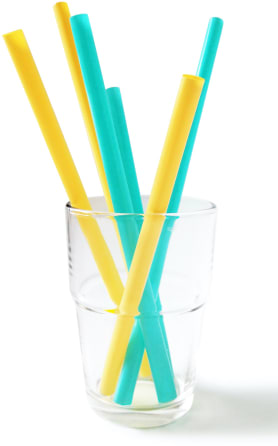Drinking Straw: (95, 70, 206, 400)
